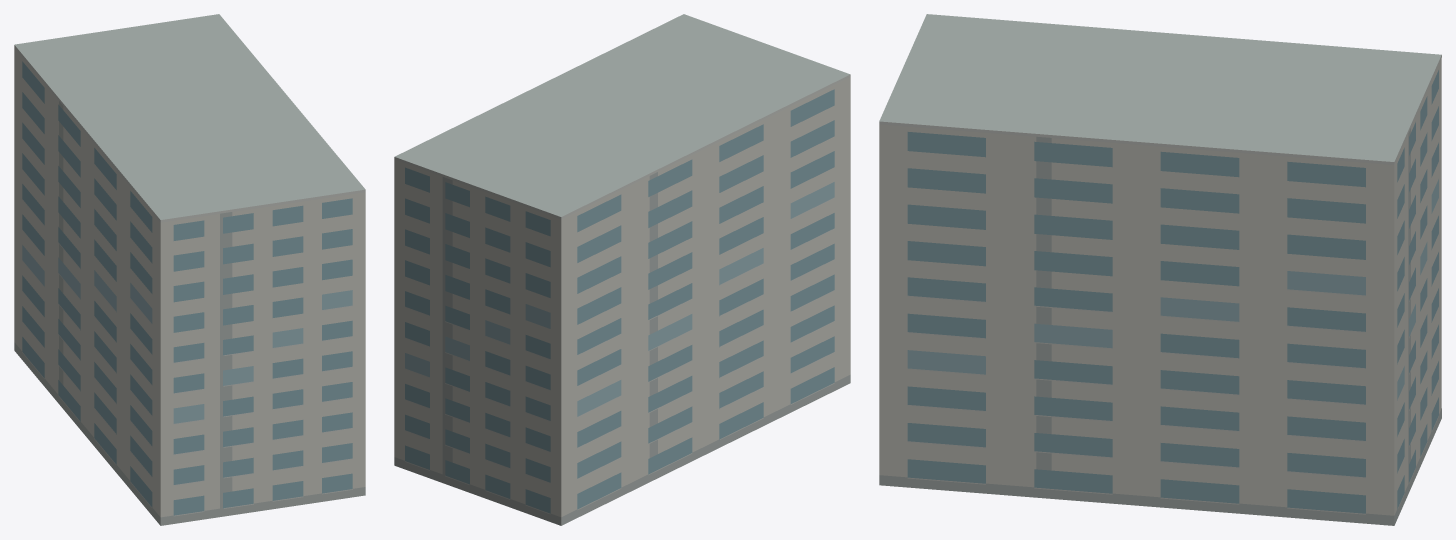
The model's file is residential-fd6ec613-a2f5-4bd6-aa5f-d820c1f53f53.glb.
3 views of the same model, side by side, from view 1: azimuth 30°, elevation 25°; view 2: azimuth 150°, elevation 25°; view 3: azimuth 270°, elevation 25° (orthographic). The views are drawn at different scales.
Parts seen in each view (by area): view 1: residential-fd6ec613-a2f5-4bd6-aa5f-d820c1f53f53.tmp; view 2: residential-fd6ec613-a2f5-4bd6-aa5f-d820c1f53f53.tmp; view 3: residential-fd6ec613-a2f5-4bd6-aa5f-d820c1f53f53.tmp.
Boxes of the visible parts, x1,y1,x2,y2 form: residential-fd6ec613-a2f5-4bd6-aa5f-d820c1f53f53.tmp: (14,14,365,525); residential-fd6ec613-a2f5-4bd6-aa5f-d820c1f53f53.tmp: (394,14,850,525); residential-fd6ec613-a2f5-4bd6-aa5f-d820c1f53f53.tmp: (879,14,1441,525).
Bounding box in the file's own units: 27.08 × 31 × 43.46.
